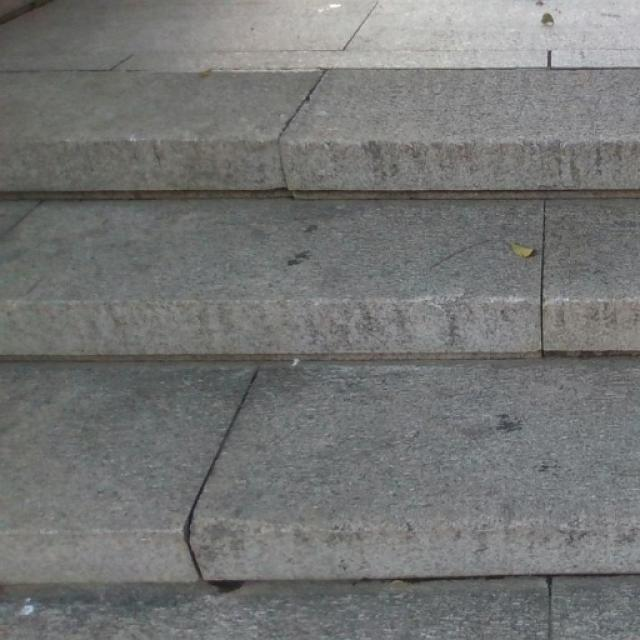Stairs: (0, 1, 639, 639)
